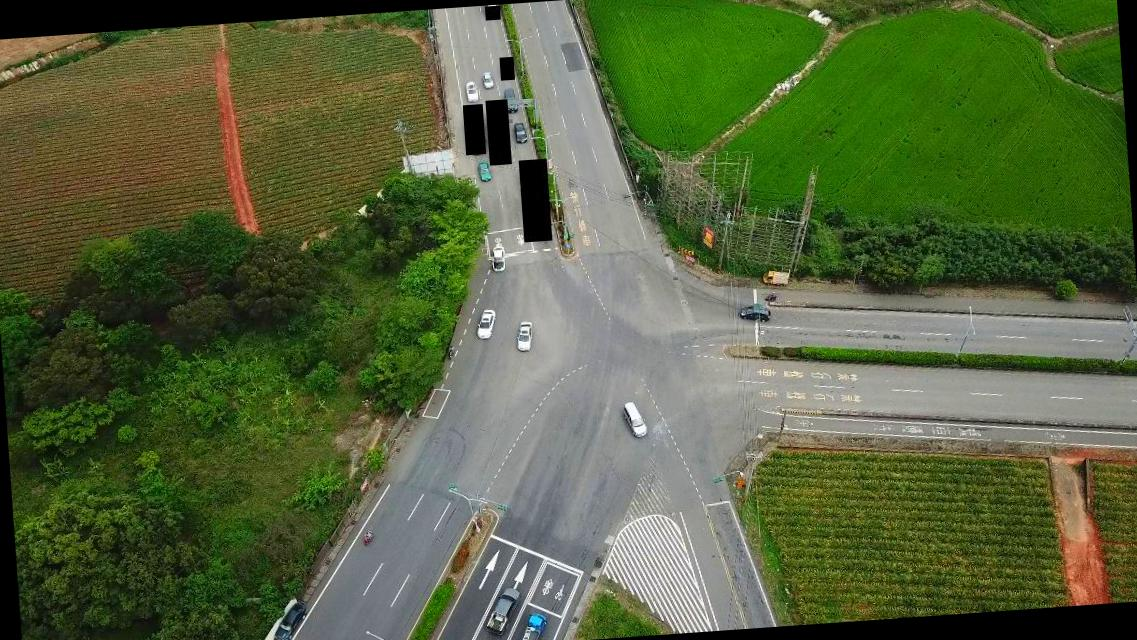vehicle: (478, 585, 522, 636), (271, 600, 310, 639), (622, 398, 646, 437), (512, 318, 536, 352), (473, 308, 497, 340), (738, 303, 773, 323), (500, 85, 520, 115), (488, 245, 508, 272), (761, 268, 788, 286), (510, 120, 529, 144), (475, 159, 491, 181), (464, 77, 478, 101), (482, 68, 496, 90)
